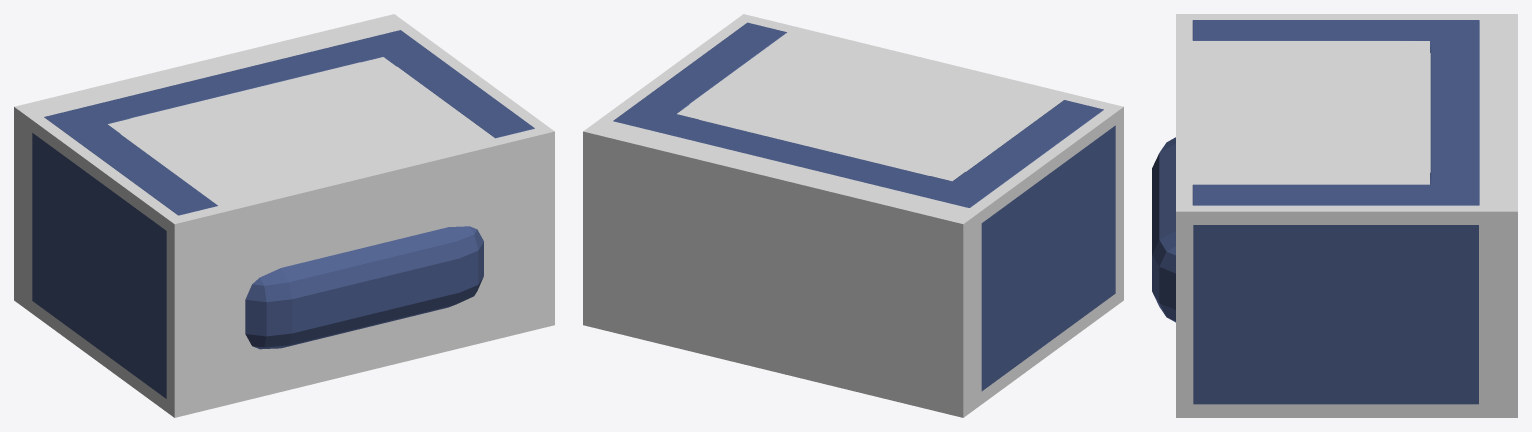
The model's file is sofa-c.glb.
3 renders of one model, left to right at view 1: azimuth 30°, elevation 25°; view 2: azimuth 150°, elevation 25°; view 3: azimuth 270°, elevation 25°, orthographic. The views are drawn at different scales.
Visible parts, largest first — view 1: Sofa C_col, Sofa C; view 2: Sofa C_col, Sofa C; view 3: Sofa C, Sofa C_col.
Boxes of the visible parts, <box> form: Sofa C_col: <box>14,14,554,417</box>; Sofa C: <box>32,30,534,398</box>; Sofa C_col: <box>583,14,1123,417</box>; Sofa C: <box>613,22,1115,391</box>; Sofa C: <box>1152,20,1479,404</box>; Sofa C_col: <box>1176,14,1517,417</box>.
Size of the model in its own units: 5.57 by 2.72 by 4.36.
